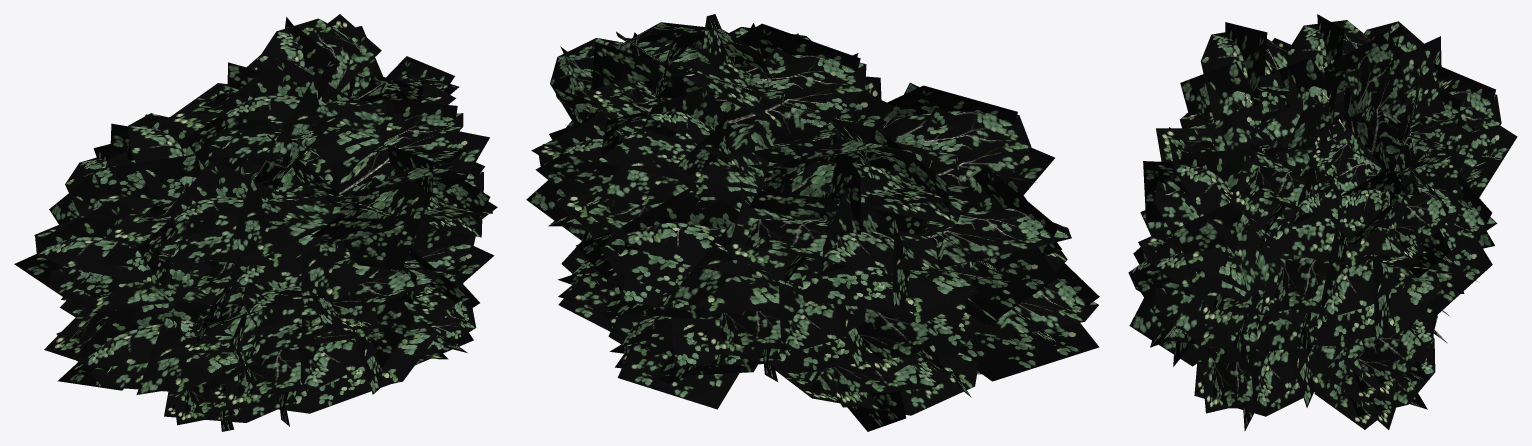
File: Bush.glb
3 views of the same model, side by side, from view 1: azimuth 30°, elevation 25°; view 2: azimuth 150°, elevation 25°; view 3: azimuth 270°, elevation 25° (orthographic). The views are drawn at different scales.
Visible parts, largest first — view 1: 榕树11; view 2: 榕树11; view 3: 榕树11.
Boxes of the visible parts, box(x1,y1,x2,y2) form: 榕树11: box(14, 14, 497, 431); 榕树11: box(526, 14, 1099, 431); 榕树11: box(1128, 14, 1517, 431).
Size of the model in its own units: 3.27 by 2.28 by 2.15.
Materials: 1 (1 with a texture image).
